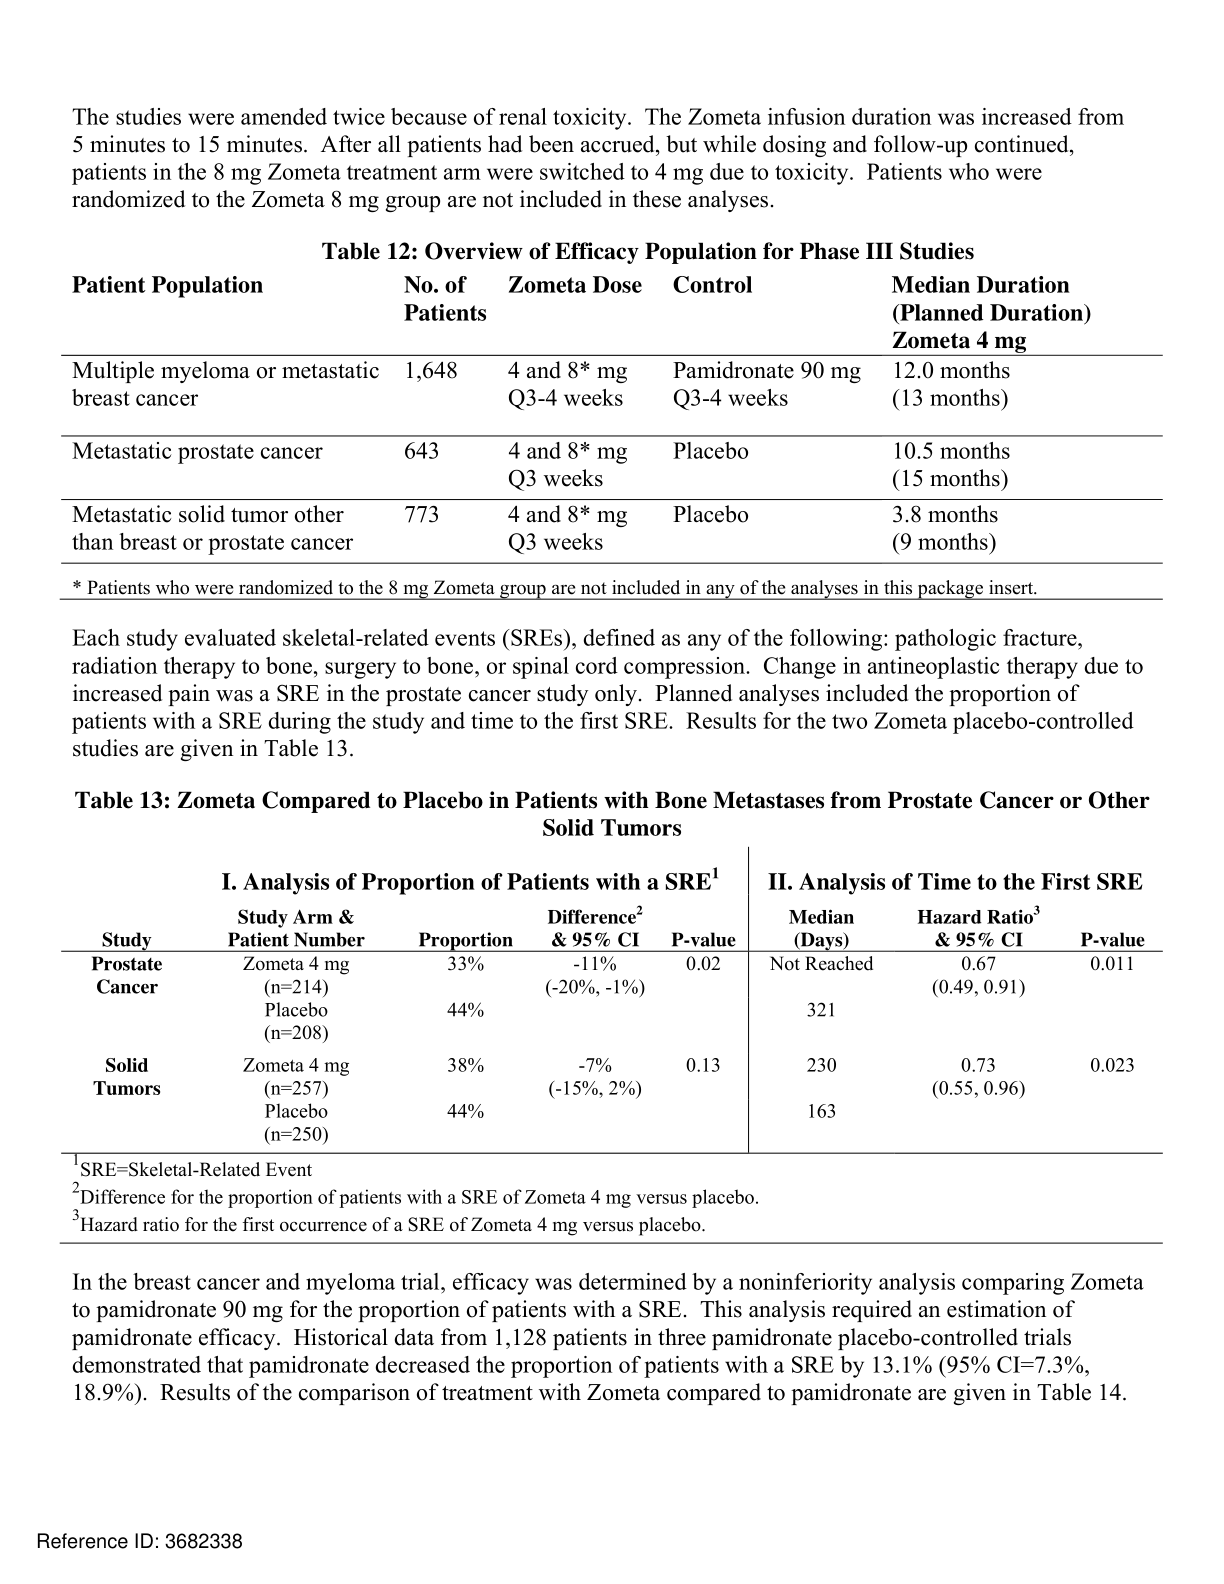partial_lined_merged_cells: (57, 266, 1166, 600), (59, 846, 1164, 1156)
